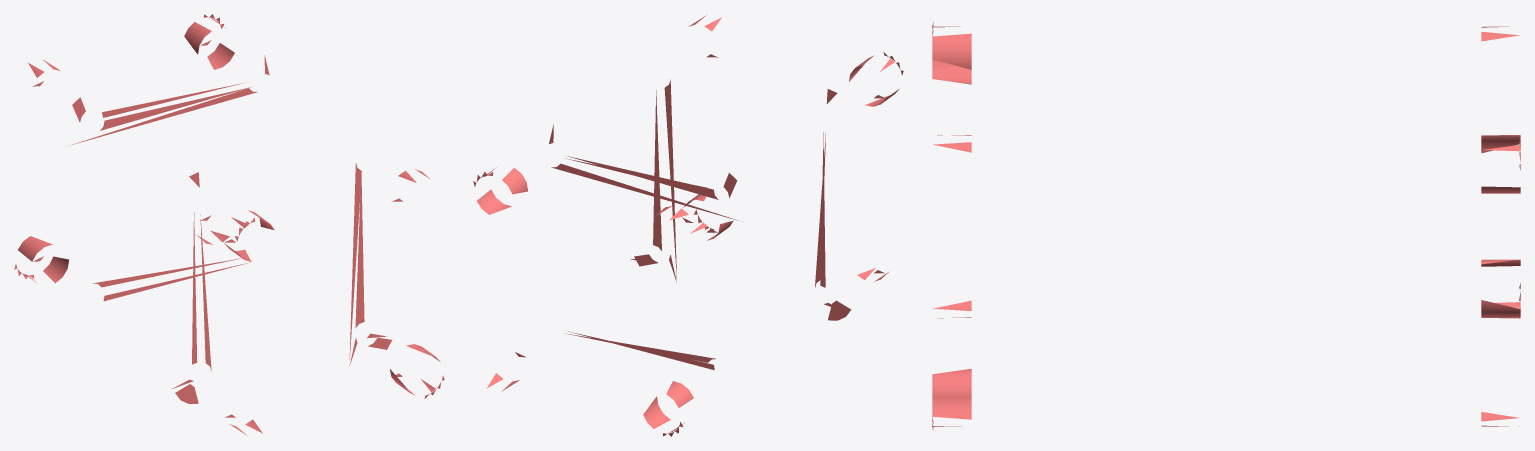
3 views of the same model, side by side, from view 1: azimuth 30°, elevation 25°; view 2: azimuth 150°, elevation 25°; view 3: azimuth 270°, elevation 25° (orthographic). The views are drawn at different scales.
Visible parts, largest first — view 1: F19721000063199800000_001_kreuzverbinder_KVRR50_Rose_Krieger; view 2: F19721000063199800000_001_kreuzverbinder_KVRR50_Rose_Krieger; view 3: F19721000063199800000_001_kreuzverbinder_KVRR50_Rose_Krieger.
Part boxes in pixels (x1,y1,x2,y2): F19721000063199800000_001_kreuzverbinder_KVRR50_Rose_Krieger: [14, 14, 444, 436]; F19721000063199800000_001_kreuzverbinder_KVRR50_Rose_Krieger: [473, 14, 903, 436]; F19721000063199800000_001_kreuzverbinder_KVRR50_Rose_Krieger: [932, 22, 1520, 430].
Size of the model in its own units: 85.24 by 149 by 86.
